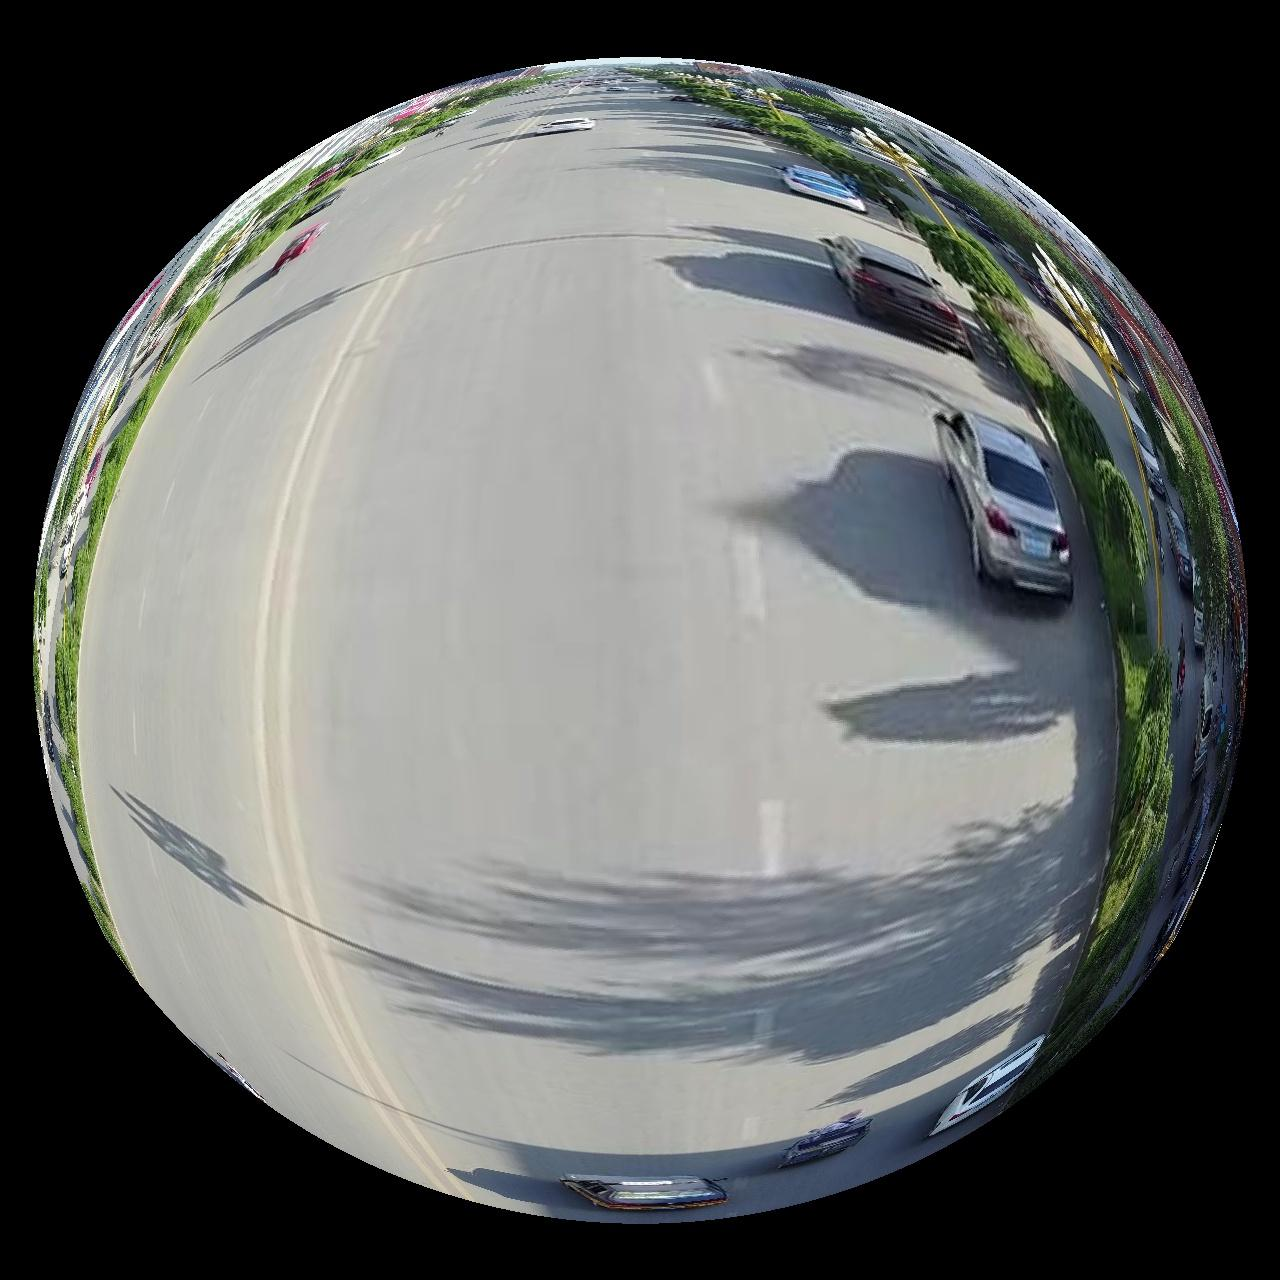cars: (937, 410, 1076, 599), (825, 236, 975, 356), (931, 1037, 1047, 1137), (560, 1177, 729, 1213), (782, 164, 867, 211), (517, 115, 595, 136)
trees: (917, 215, 1053, 392), (1099, 651, 1176, 933), (1092, 458, 1159, 722), (1029, 372, 1117, 496)
